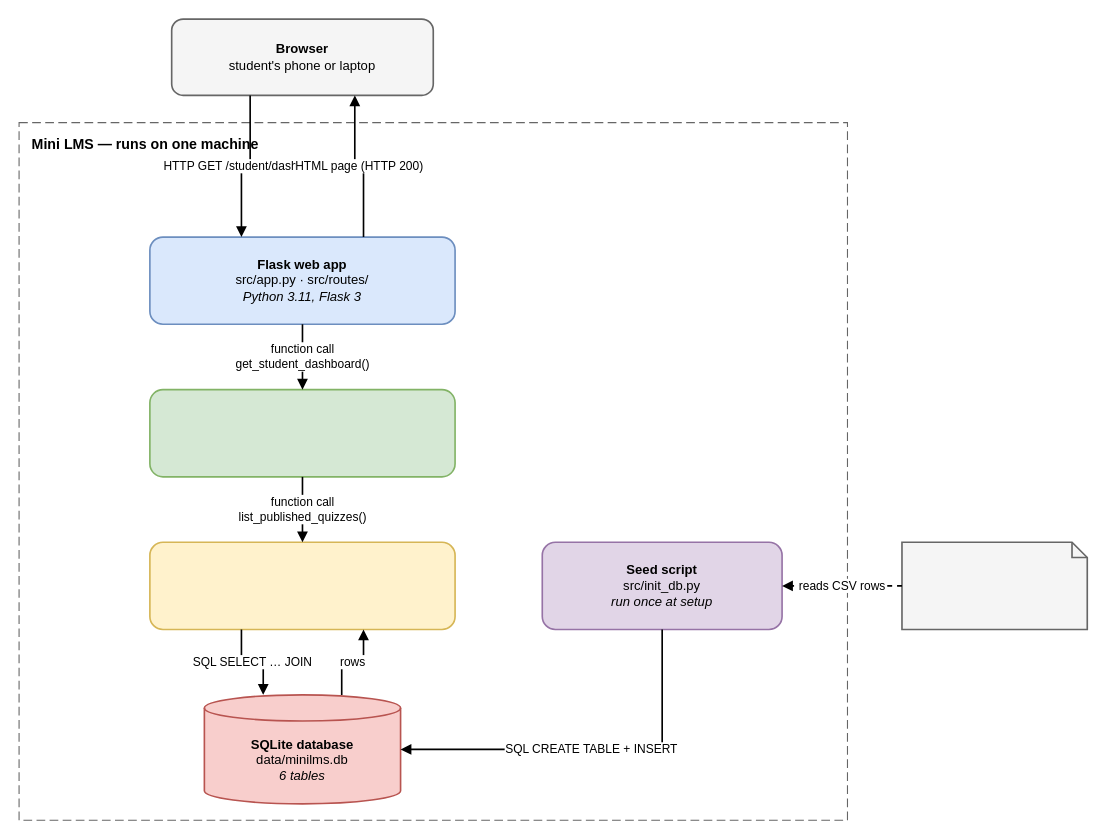
Some shapes in this 1107 by 840 pixel diagram are drawn without their labels. Each missing label, with the centre of its shape:
"Quiz repository src/repositories/quiz_repository.py the only place with SQL" goes at (302,585).
"Quiz service src/services/quiz_service.py business rules BR1–BR6" goes at (302,432).
"Seed CSV files data/seed_*.csv 4 files, 97 rows" goes at (994,585).
